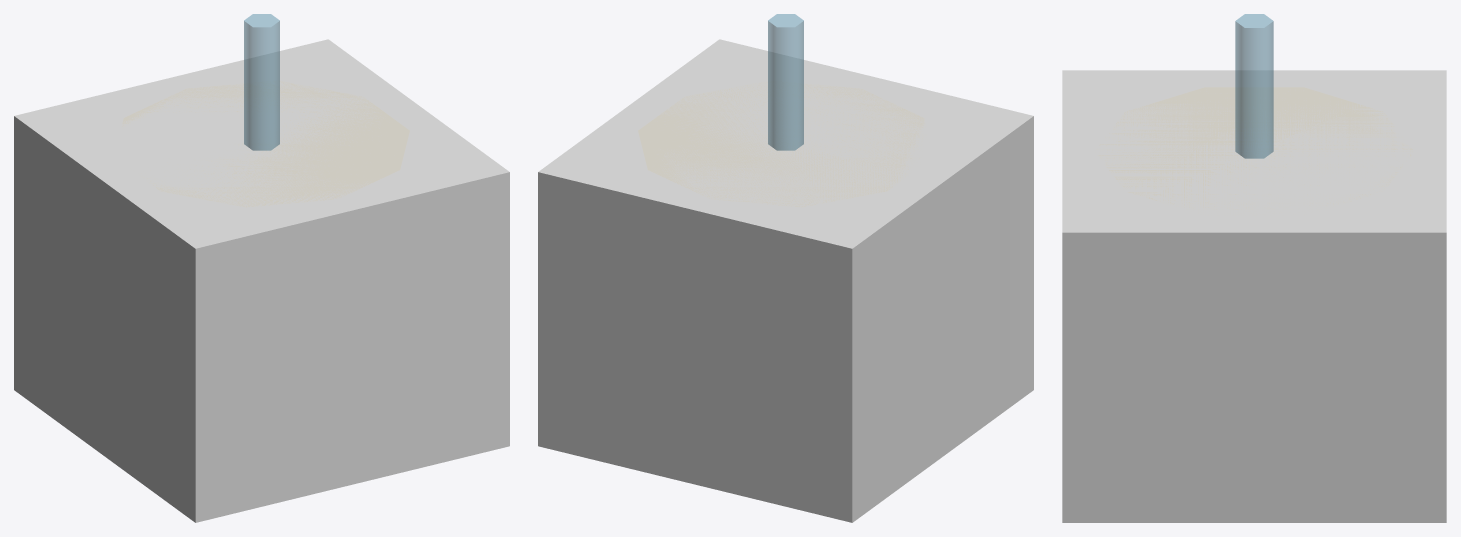
The model's file is booth-9-extra.glb.
The picture shows the model from 3 angles, left to right: view 1: azimuth 30°, elevation 25°; view 2: azimuth 150°, elevation 25°; view 3: azimuth 270°, elevation 25°; orthographic projection. The views are drawn at different scales.
Parts seen in each view (by area): view 1: solid, 00_#e8e4d8_r320, 01_#7ab0c8_r110; view 2: solid, 00_#e8e4d8_r320, 01_#7ab0c8_r110; view 3: solid, 00_#e8e4d8_r320, 01_#7ab0c8_r110.
Boxes of the visible parts, bbox=[...] form: solid: bbox=[14, 39, 509, 522]; 00_#e8e4d8_r320: bbox=[122, 81, 409, 207]; 01_#7ab0c8_r110: bbox=[244, 14, 279, 150]; solid: bbox=[538, 39, 1033, 522]; 00_#e8e4d8_r320: bbox=[638, 81, 926, 207]; 01_#7ab0c8_r110: bbox=[768, 14, 803, 150]; solid: bbox=[1062, 70, 1446, 522]; 00_#e8e4d8_r320: bbox=[1095, 87, 1412, 215]; 01_#7ab0c8_r110: bbox=[1235, 14, 1273, 158].
Size of the model in its own units: 1.2 by 1.45 by 1.2.
